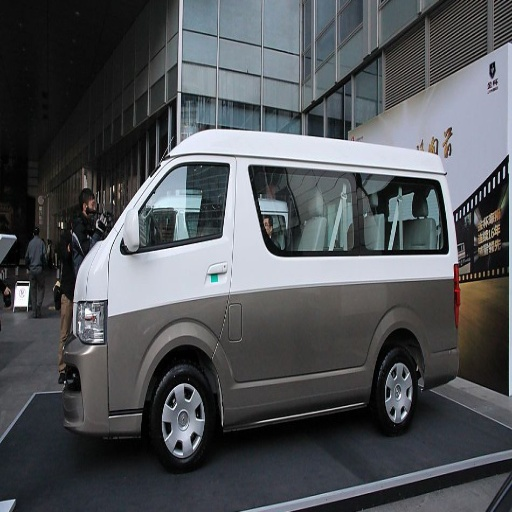trunk: (261, 259, 458, 382), (81, 292, 256, 413)
